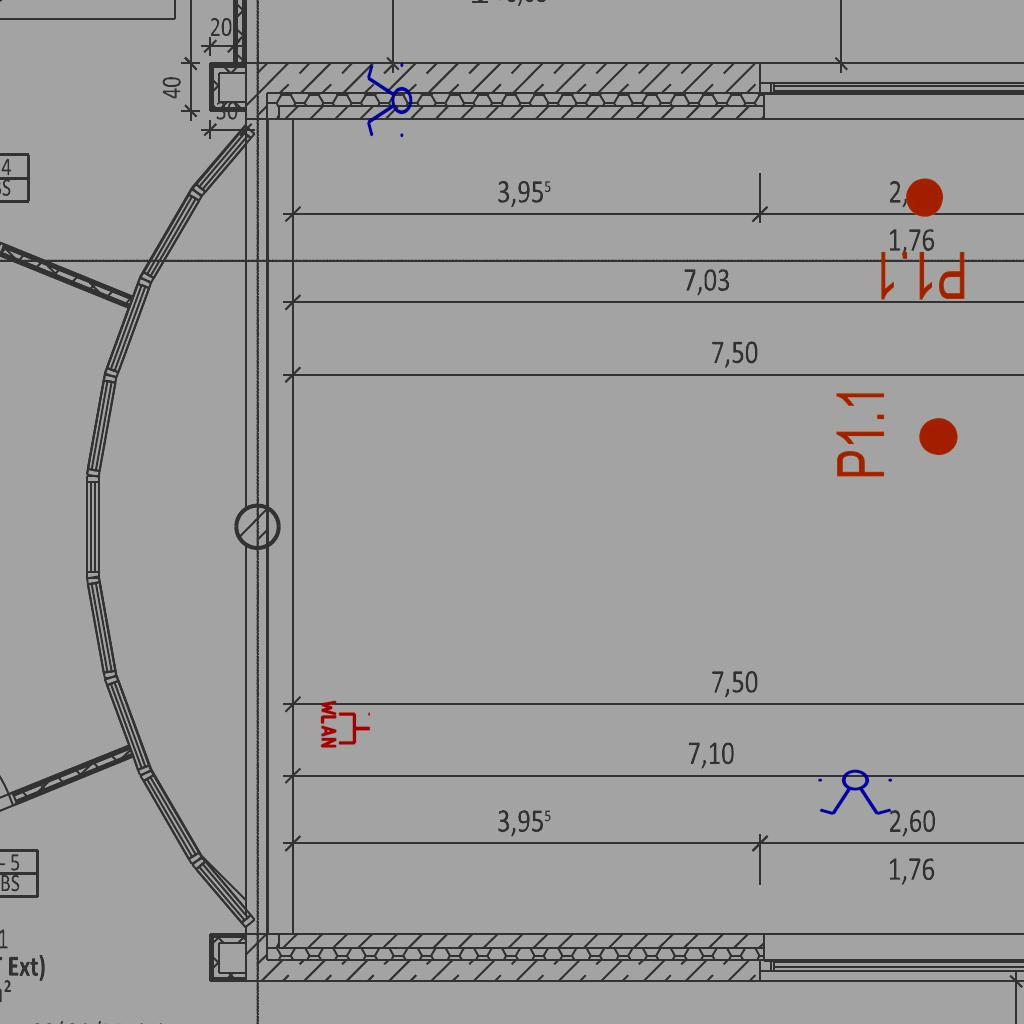Downlight_LED_Einbauleuchten_Flur: (833, 387, 961, 480), (875, 175, 968, 303)
Serienschalter: (814, 769, 898, 817), (365, 59, 413, 143)
WLAN: (320, 698, 372, 750)
